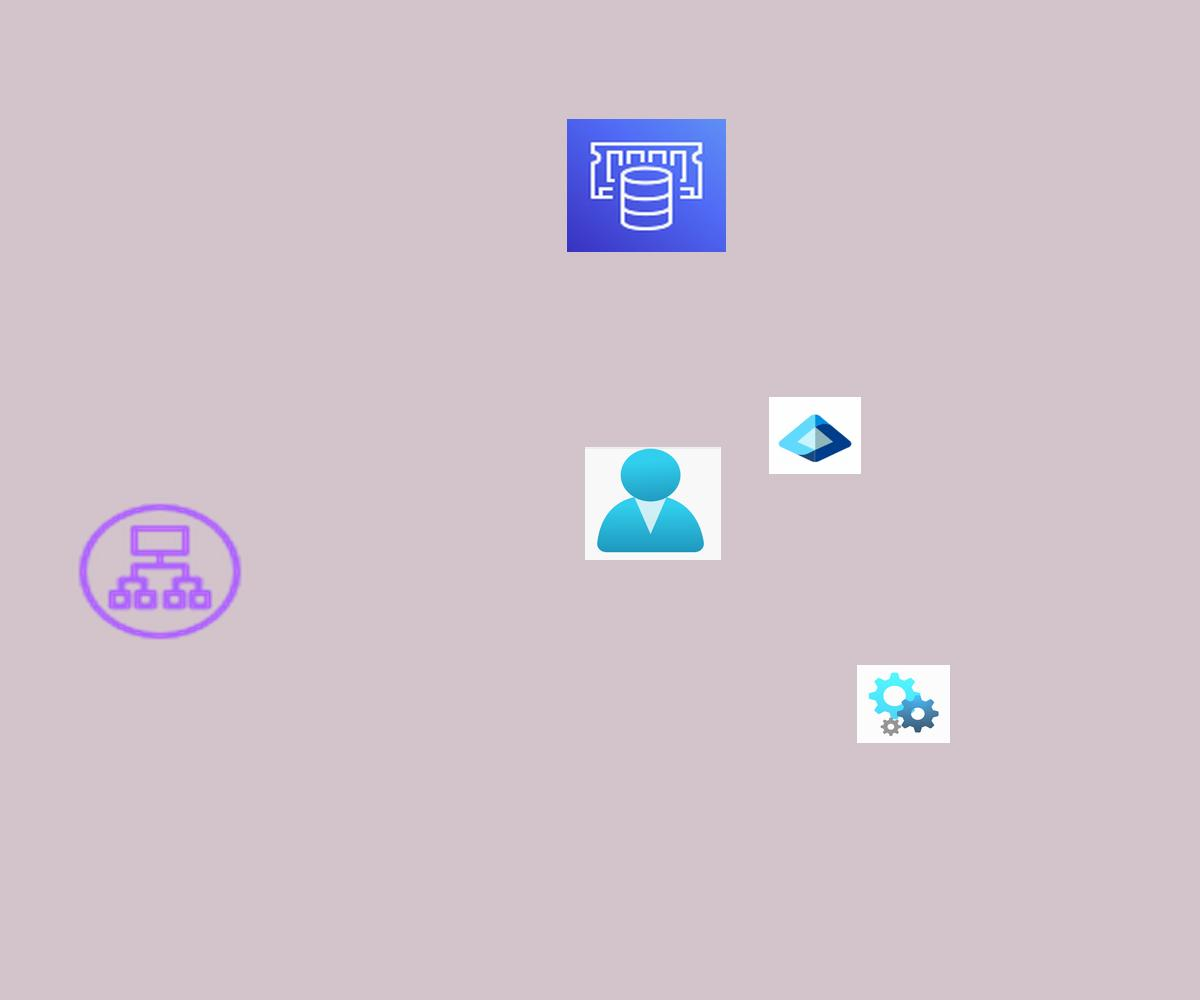AWS-ElastiCache: (567, 119, 726, 252)
AWS-Res_Elastic-Load-Balancing_Application-Load-Balancer: (72, 498, 248, 645)
Azure_api: (857, 665, 950, 743)
Azure_microsoft_entra: (769, 397, 861, 474)
Azure_users: (585, 447, 721, 560)
